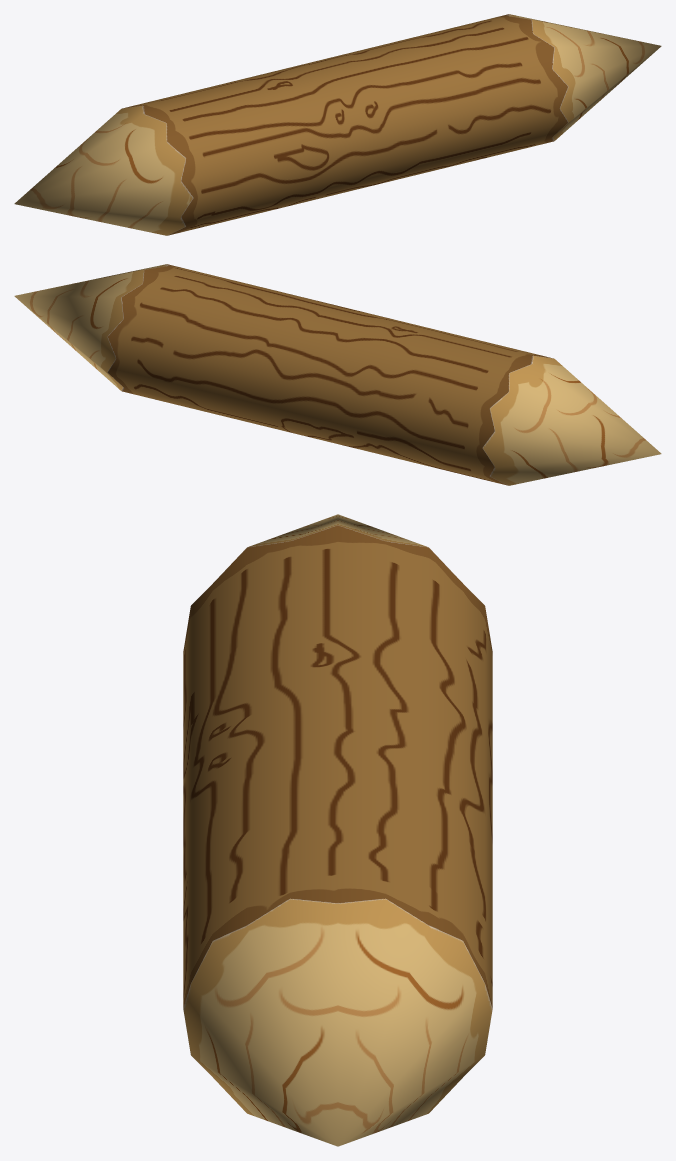
File: damLog-Final.fbx
3 renders of one model, top to bottom at view 1: azimuth 30°, elevation 25°; view 2: azimuth 150°, elevation 25°; view 3: azimuth 270°, elevation 25°, orthographic. The views are drawn at different scales.
Parts seen in each view (by area): view 1: pCylinder10; view 2: pCylinder10; view 3: pCylinder10.
Part boxes in pixels (x1,y1,x2,y2): pCylinder10: (14,14,661,235); pCylinder10: (14,264,661,485); pCylinder10: (183,514,492,1146).
Bounding box in the file's own units: 2.58 × 0.4418 × 0.5332.
